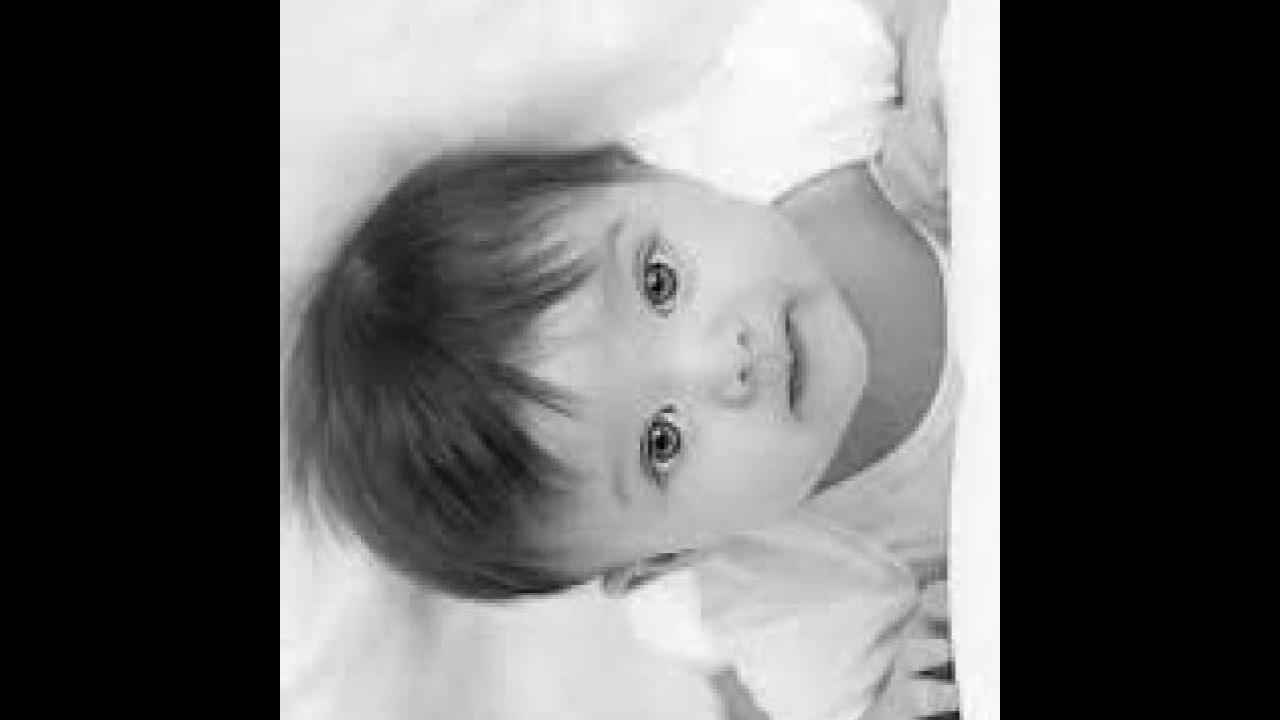hand: (870, 91, 955, 243), (895, 571, 969, 720)
